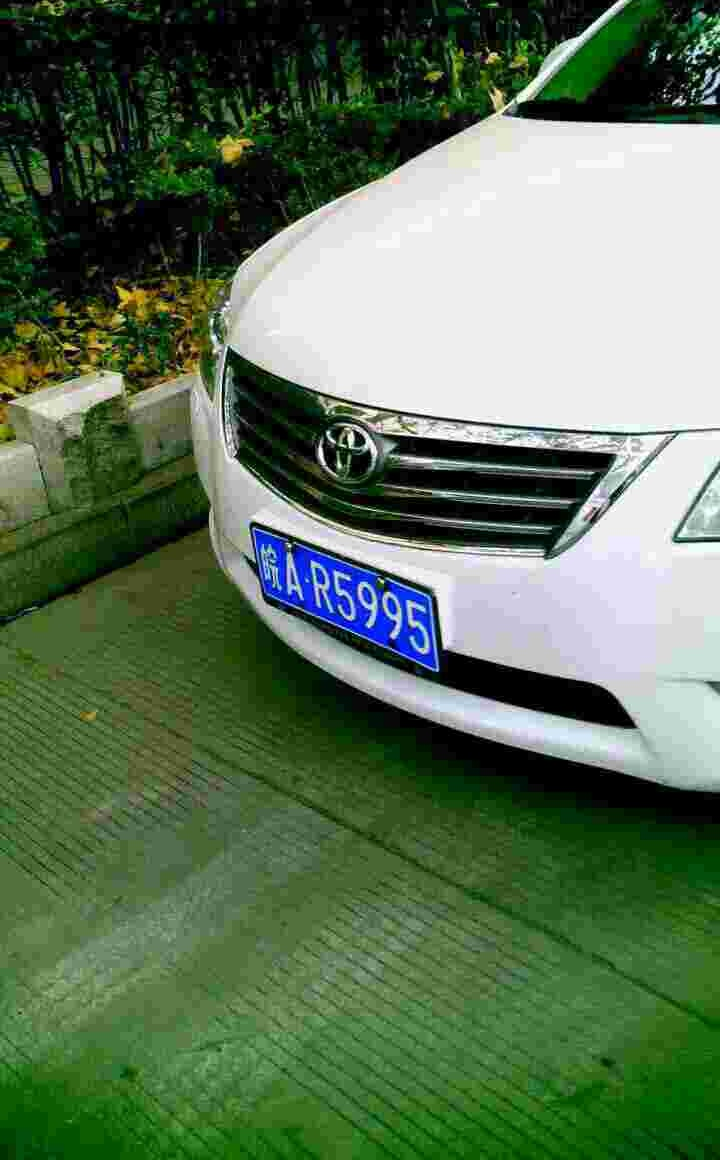license_plate: (250, 526, 439, 670)
